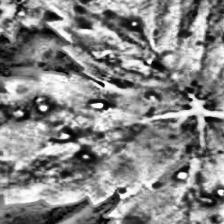Leaf Spot: (0, 68, 199, 208), (41, 0, 224, 116), (98, 119, 224, 224), (0, 0, 62, 48)
